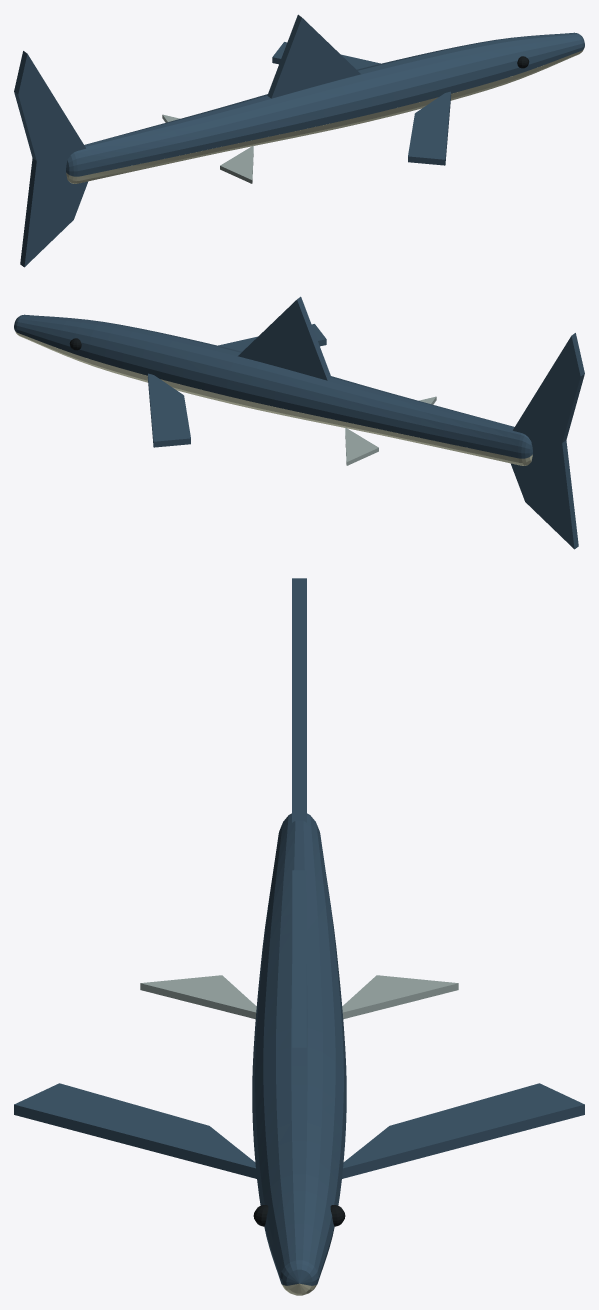
The model's file is barracuda.dae.
3 views of the same model, one above another, from view 1: azimuth 30°, elevation 25°; view 2: azimuth 150°, elevation 25°; view 3: azimuth 270°, elevation 25° (orthographic). The views are drawn at different scales.
Parts seen in each view (by area): view 1: part3-node, part2-node, part0-node; view 2: part3-node, part2-node, part0-node; view 3: part3-node, part0-node.
Part boxes in pixels (<box>): part3-node: <box>14,14,584,267</box>; part2-node: <box>66,49,583,183</box>; part0-node: <box>162,114,253,183</box>; part3-node: <box>14,296,584,549</box>; part2-node: <box>15,331,532,465</box>; part0-node: <box>345,396,436,465</box>; part3-node: <box>14,578,584,1285</box>; part0-node: <box>140,975,458,1019</box>.
Size of the model in its own units: 1.5 by 0.7383 by 0.5384.
